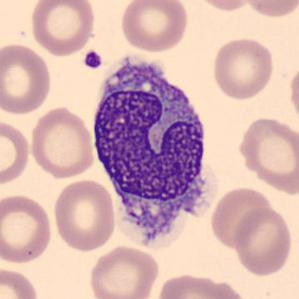Monocyte: (89, 45, 218, 254)
Platelets: (82, 50, 104, 70)
RBC: (27, 104, 97, 180), (235, 114, 298, 196), (51, 177, 118, 253), (208, 184, 274, 252), (210, 34, 276, 102), (232, 205, 294, 277), (86, 244, 161, 299), (0, 41, 54, 117), (0, 192, 54, 266), (28, 0, 97, 57), (118, 0, 190, 54), (154, 271, 242, 299), (0, 116, 32, 188), (0, 266, 41, 299), (241, 0, 298, 19), (190, 0, 255, 13), (286, 62, 299, 125)
